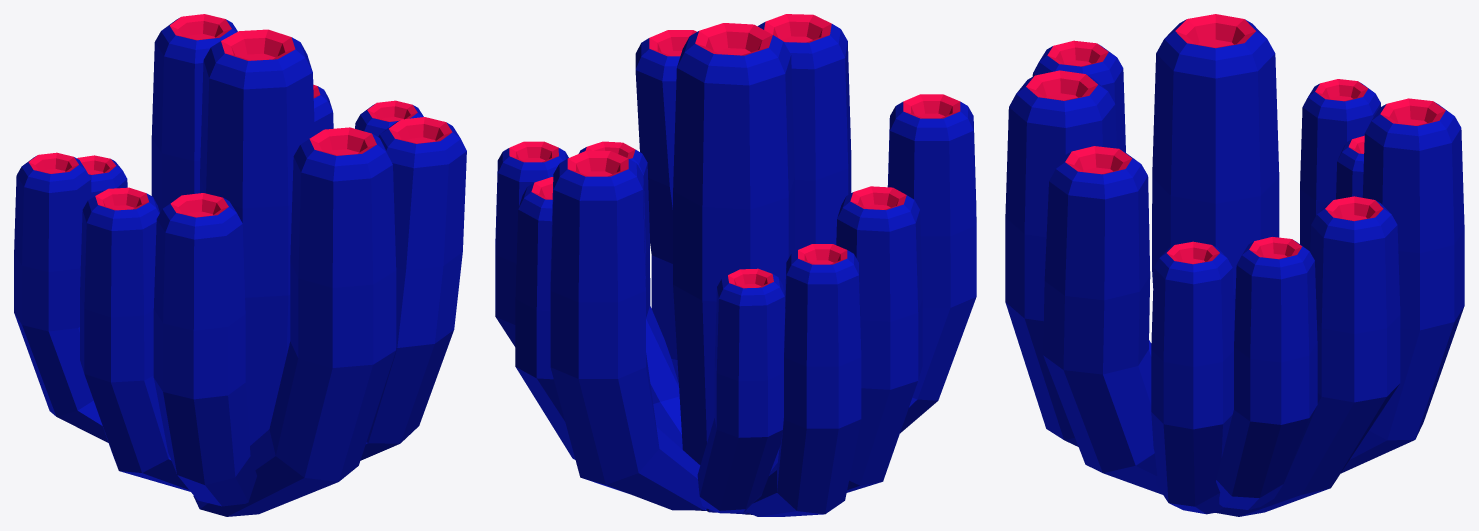
The model's file is propSponges2A.fbx.
3 views of the same model, side by side, from view 1: azimuth 30°, elevation 25°; view 2: azimuth 150°, elevation 25°; view 3: azimuth 270°, elevation 25° (orthographic). The views are drawn at different scales.
Visible parts, largest first — view 1: Sponges2A; view 2: Sponges2A; view 3: Sponges2A.
Part boxes in pixels (x1,y1,x2,y2): Sponges2A: (14,14,466,516); Sponges2A: (495,14,976,516); Sponges2A: (1005,14,1464,516).
Bounding box in the file's own units: 247 × 273 × 248.
